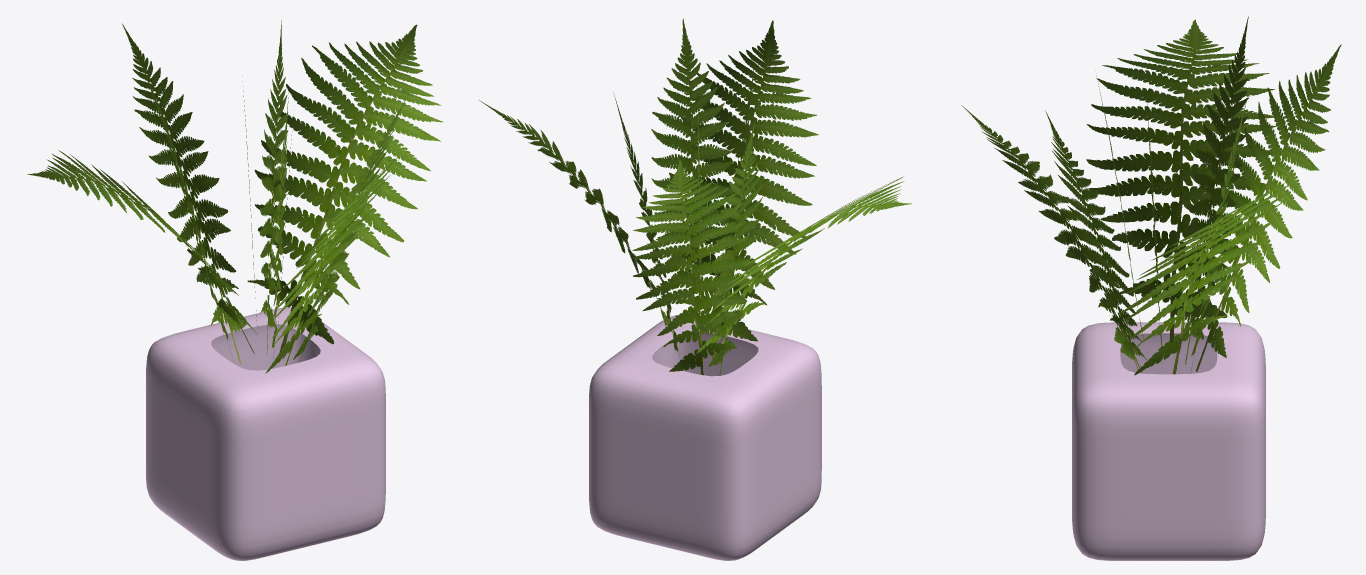
File: fern pot 1.fbx
3 renders of one model, left to right at view 1: azimuth 30°, elevation 25°; view 2: azimuth 150°, elevation 25°; view 3: azimuth 270°, elevation 25°, orthographic. The views are drawn at different scales.
Visible parts, largest first — view 1: Cube.001, _0; view 2: Cube.001, _0; view 3: _0, Cube.001.
Part boxes in pixels (x1,y1,x2,y2): Cube.001: (146, 307, 385, 560); _0: (27, 20, 442, 373); Cube.001: (589, 315, 821, 560); _0: (479, 18, 911, 375); _0: (961, 16, 1341, 375); Cube.001: (1072, 322, 1265, 560).
Size of the model in its own units: 101 by 104 by 79.71.
